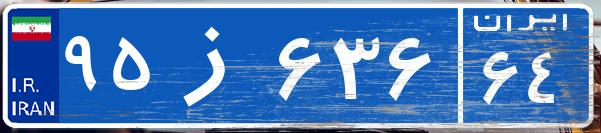3: (330, 28, 385, 110)
4: (525, 38, 570, 115)
5: (110, 28, 158, 105)
6: (385, 28, 445, 110), (273, 28, 330, 110), (475, 38, 525, 113)
9: (57, 26, 110, 107)
ز: (158, 15, 273, 115)
